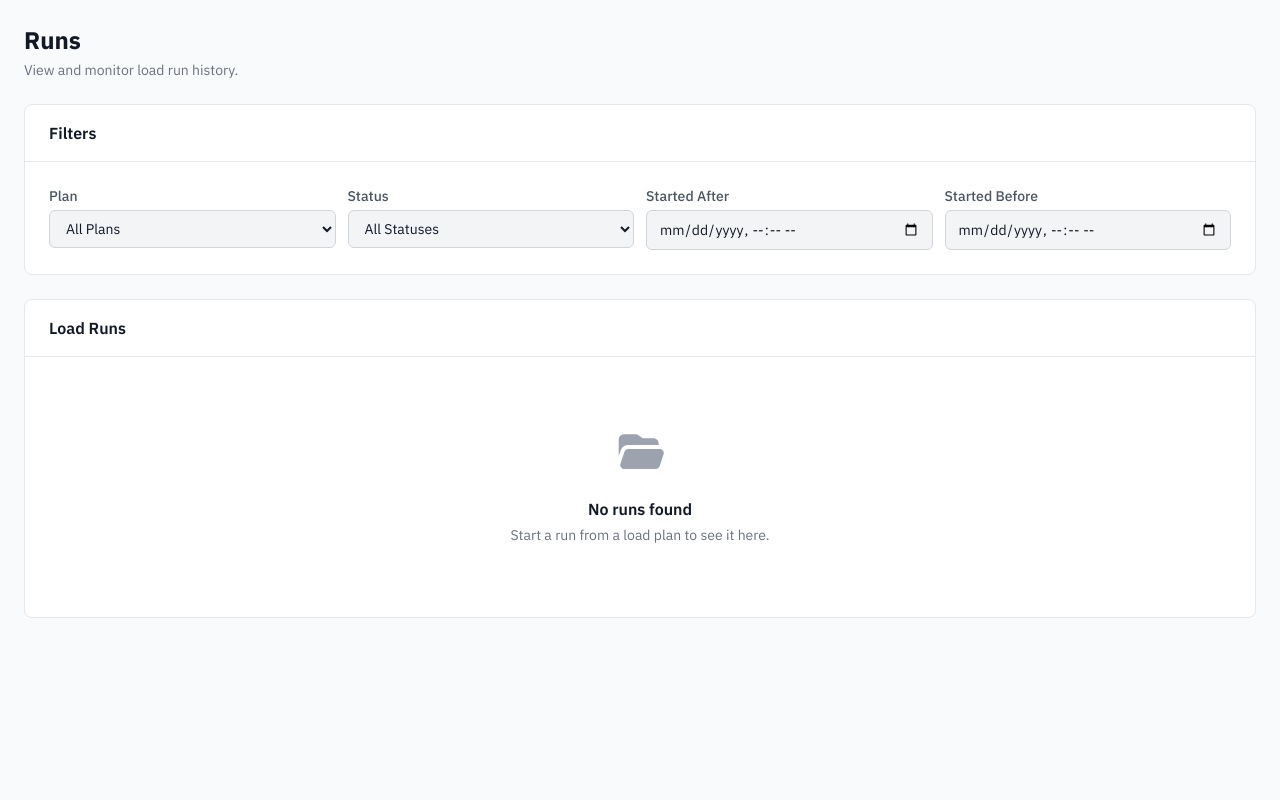
Test: RunsPage › shows clear filters button when a filter is set
expect the button "clear filters" is not shown: met
Note: Select a status
Select "running" in the dropdown named "Filter by status" at (491, 229), box [348,210,634,248]
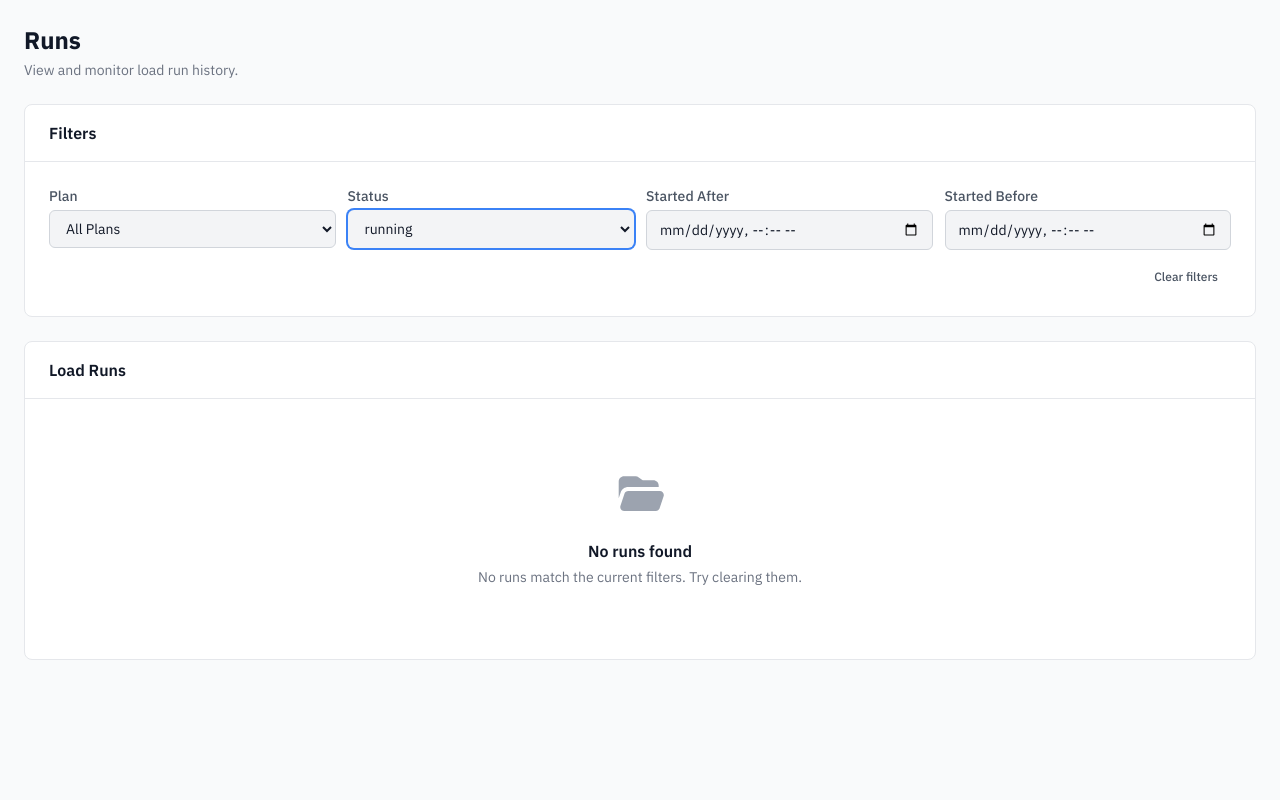
expect the button "Clear filters" is shown: met, box [1141,262,1231,292]
